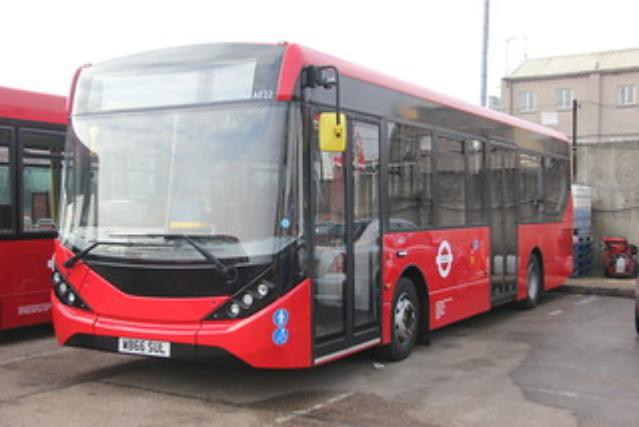bus: (48, 40, 574, 373)
